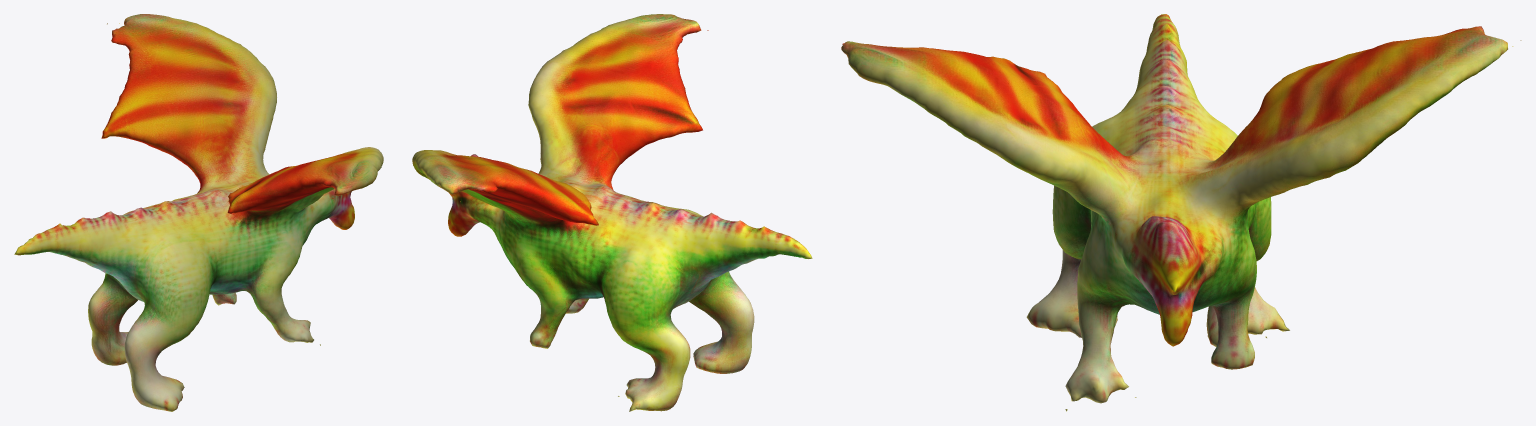
The model's file is cockatrice.glb.
3 renders of one model, left to right at view 1: azimuth 30°, elevation 25°; view 2: azimuth 150°, elevation 25°; view 3: azimuth 270°, elevation 25°, orthographic. The views are drawn at different scales.
Visible parts, largest first — view 1: Mesh1; view 2: Mesh1; view 3: Mesh1.
Part boxes in pixels (left/top/right/bottom): Mesh1: left=14, top=14, right=383, bottom=411; Mesh1: left=412, top=14, right=812, bottom=411; Mesh1: left=841, top=14, right=1521, bottom=411.
Bounding box in the file's own units: 1.05 × 0.7379 × 1.2.
1 material, 1 textured.
